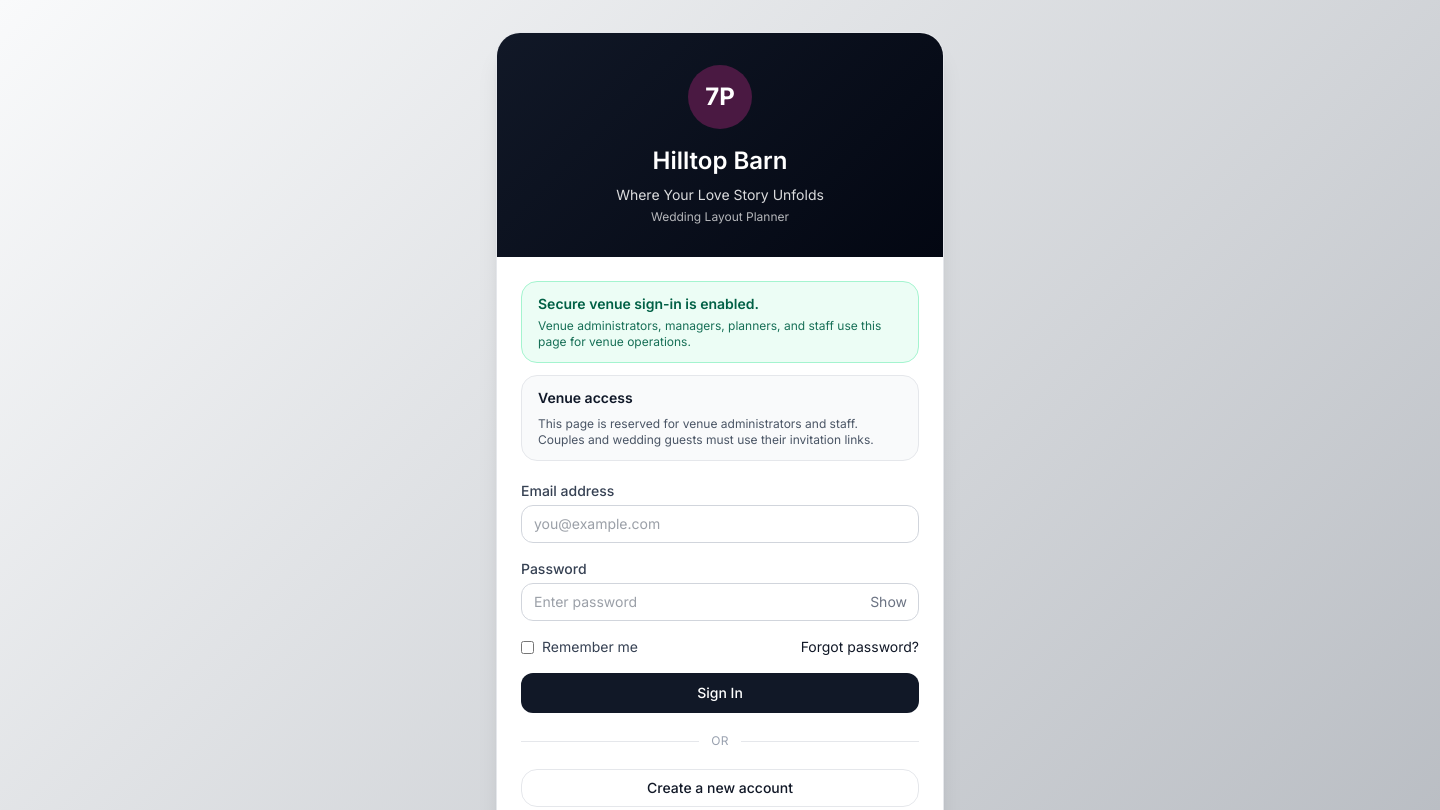
LoginScreen invite sign-up hang guards › clears Creating account when register throws
Click the button "Create a new account" at (720, 788), box [521,769,919,807]
(page scrolled)
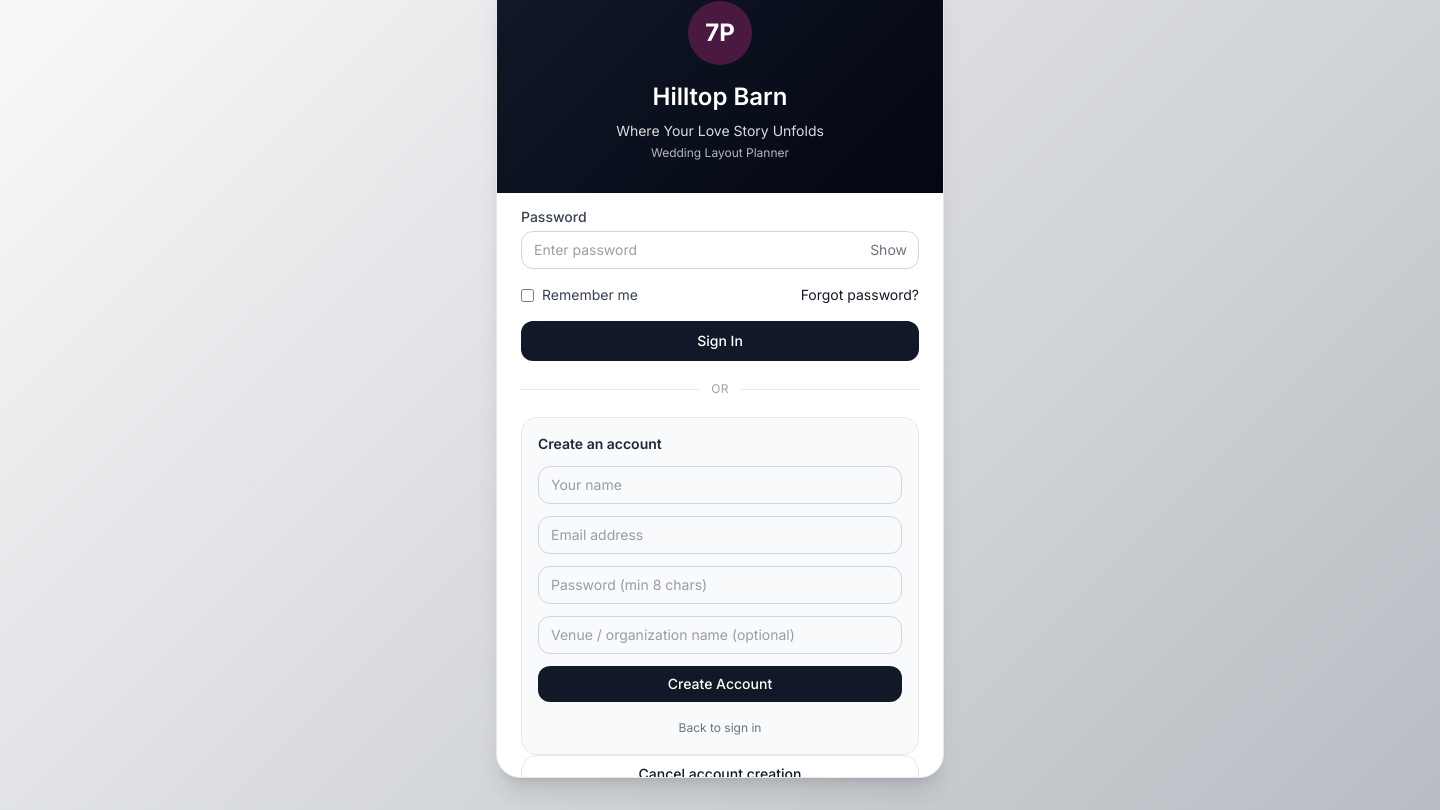
Type "Ada Admin" into the field with placeholder "Your name" at (720, 485), box [538,466,902,504]
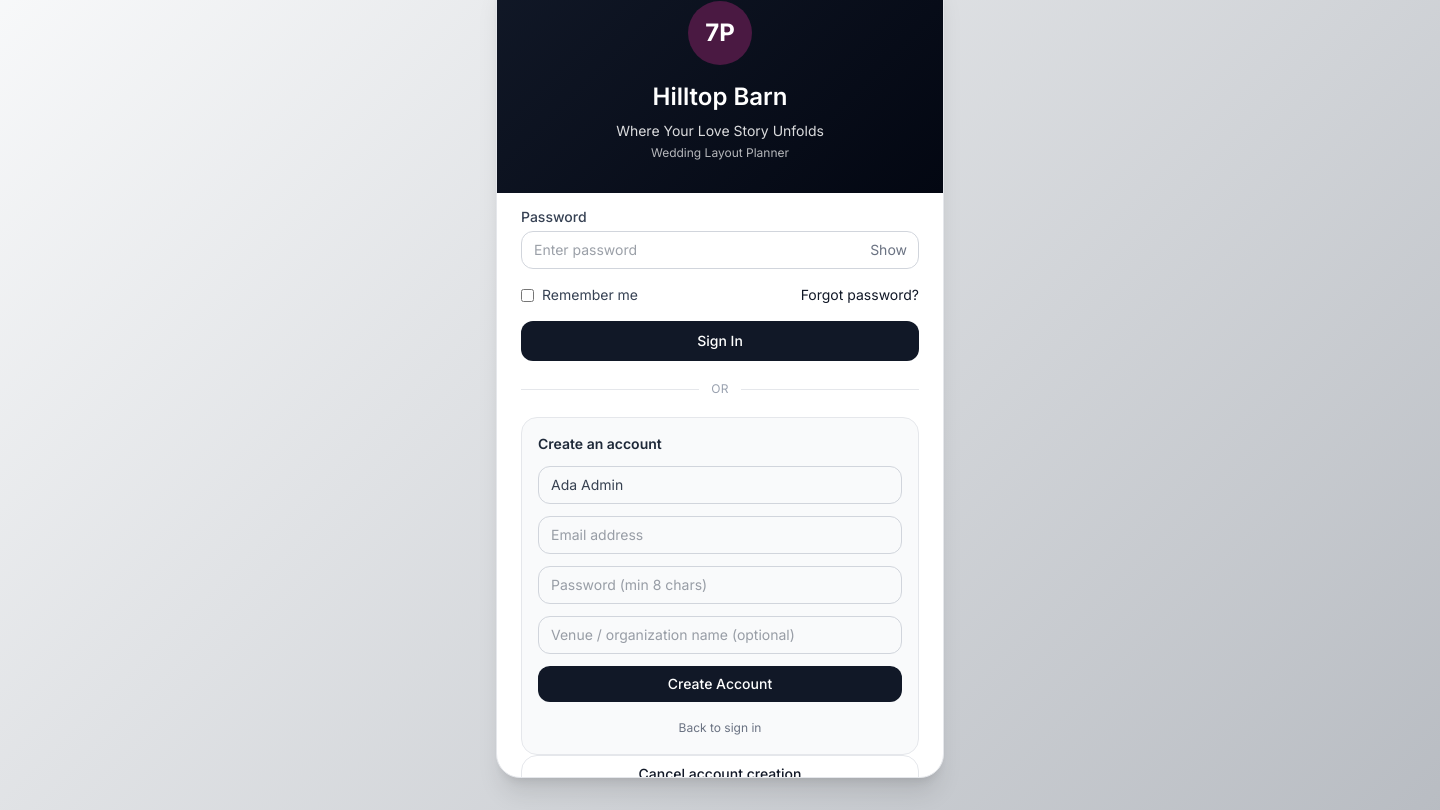
Type "ada@hilltop.com" into the field with placeholder "Email address" at (720, 535), box [538,516,902,554]
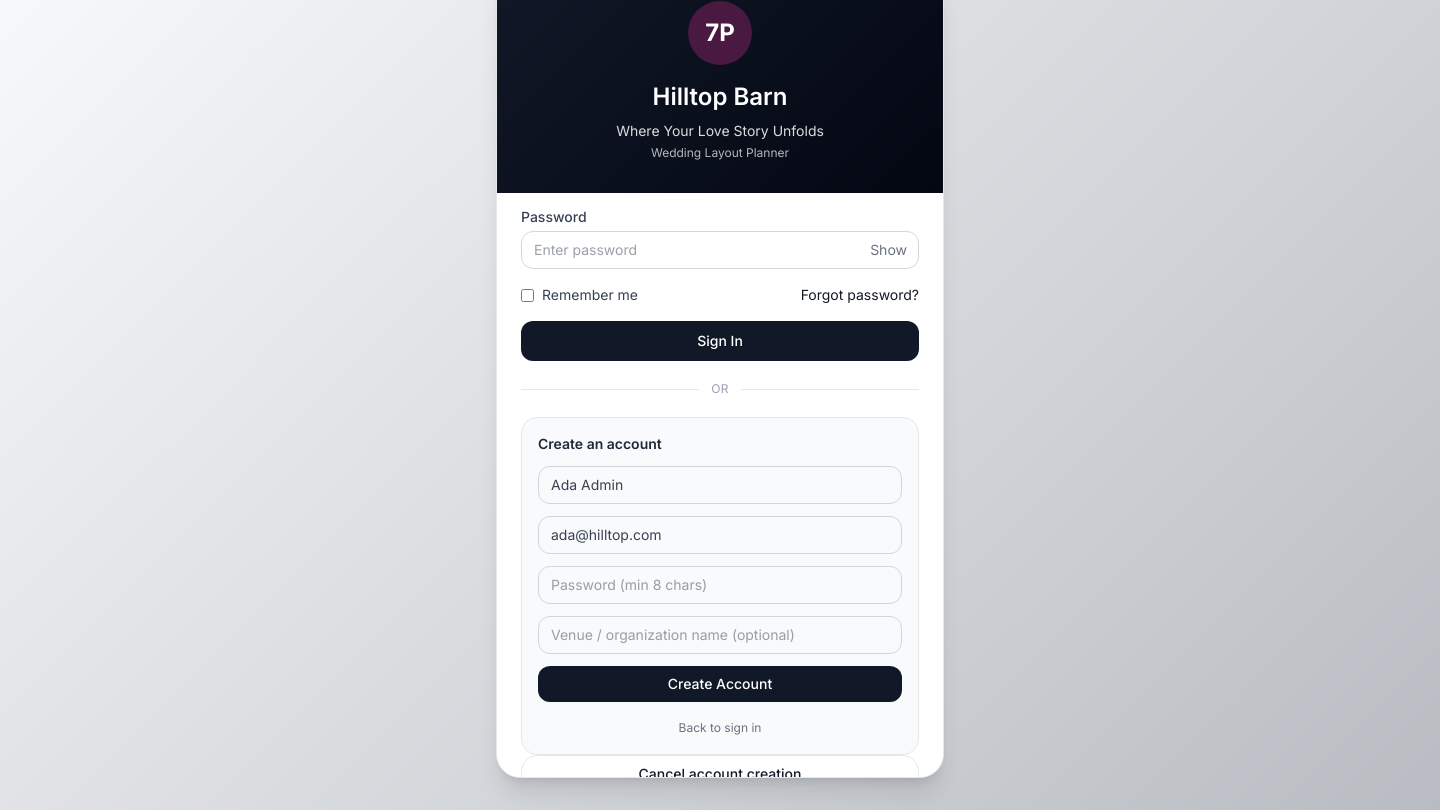
Type "password1" into the password field with placeholder "Password (min 8 chars)" at (720, 585), box [538,566,902,604]
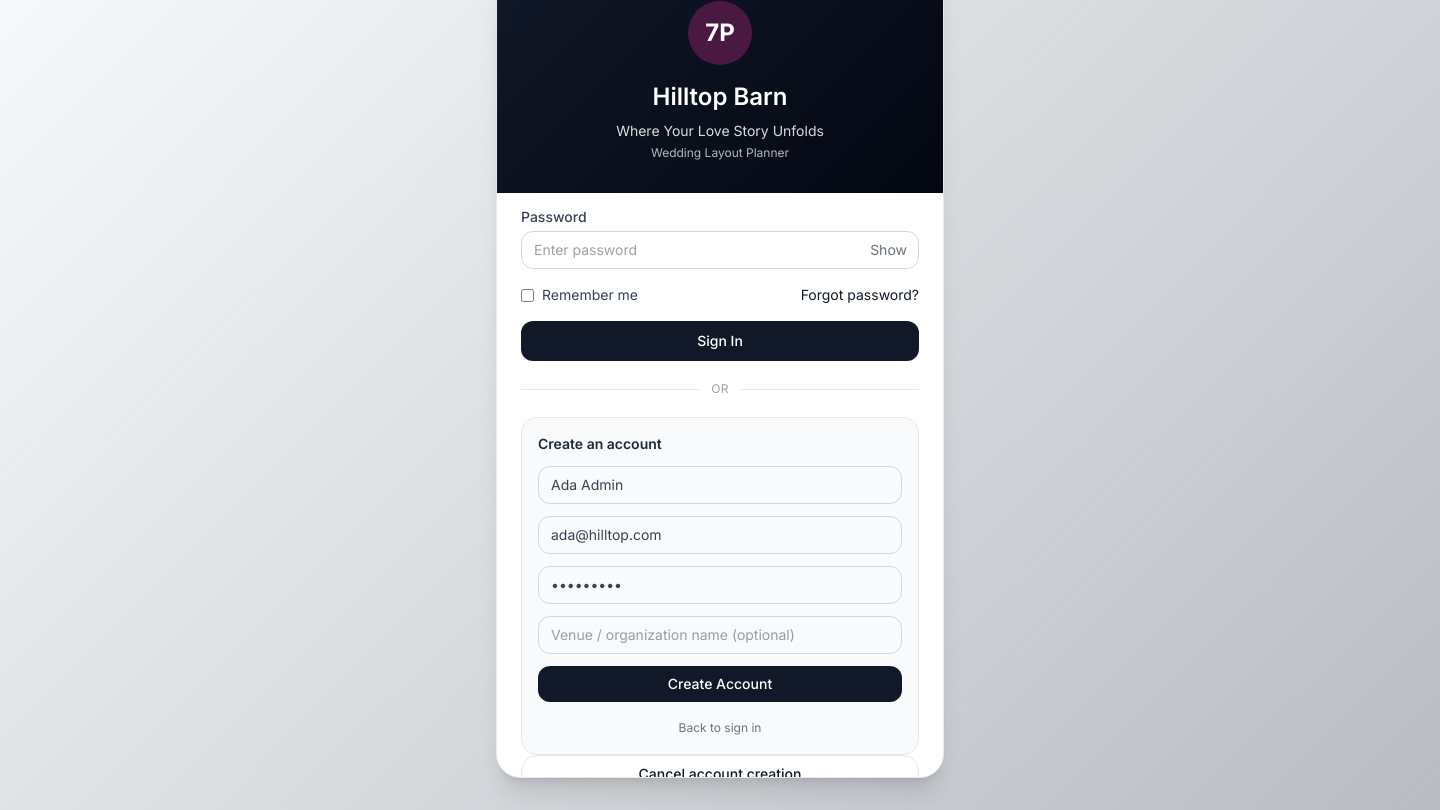
Click the button "Create Account" at (720, 684), box [538,666,902,702]
(page scrolled)
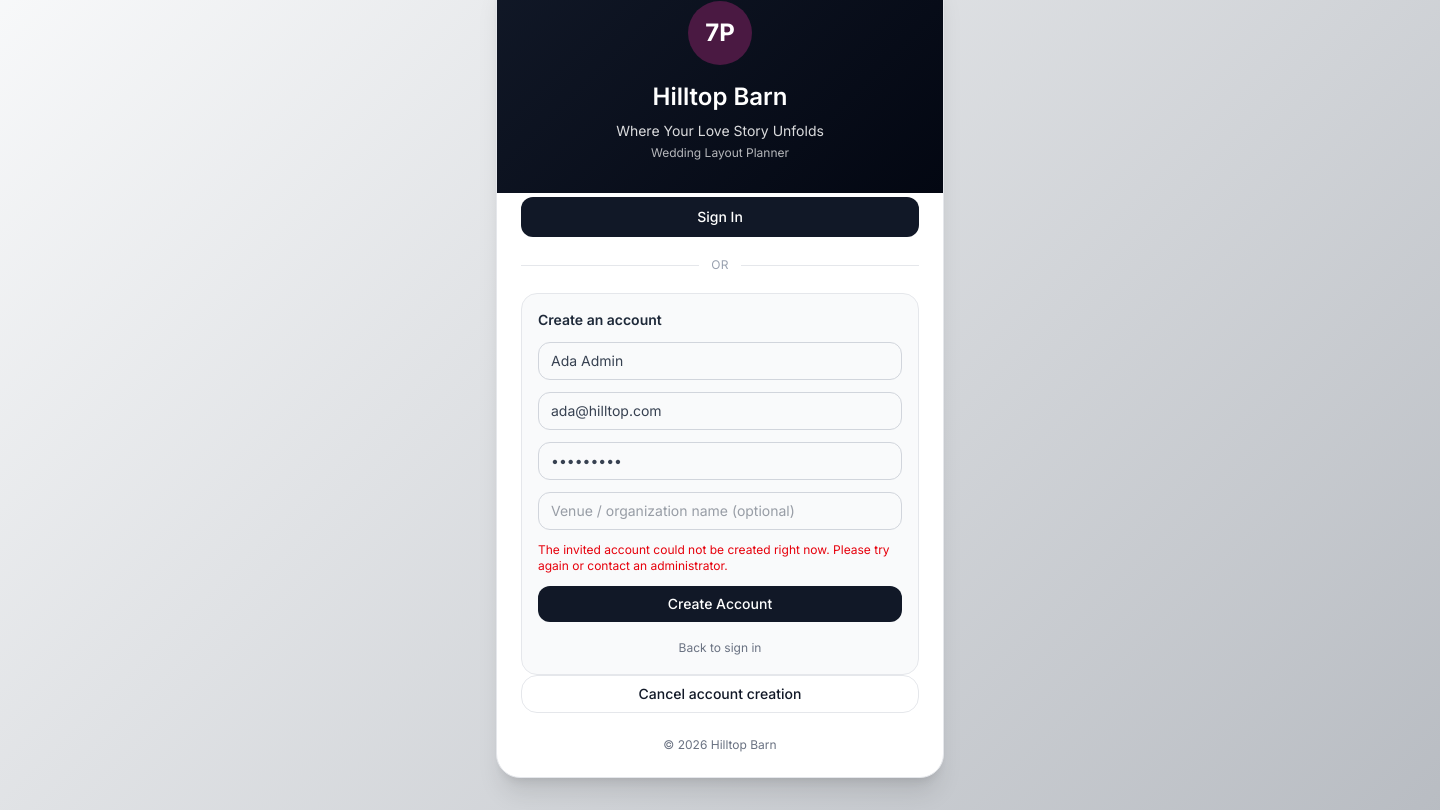
Expected: the message does not show "auth service", [538,542,902,574]
Now the button "Create Account" is enabled, box [538,586,902,622]
Now the message shows "could not be created right now", box [538,542,890,573]
